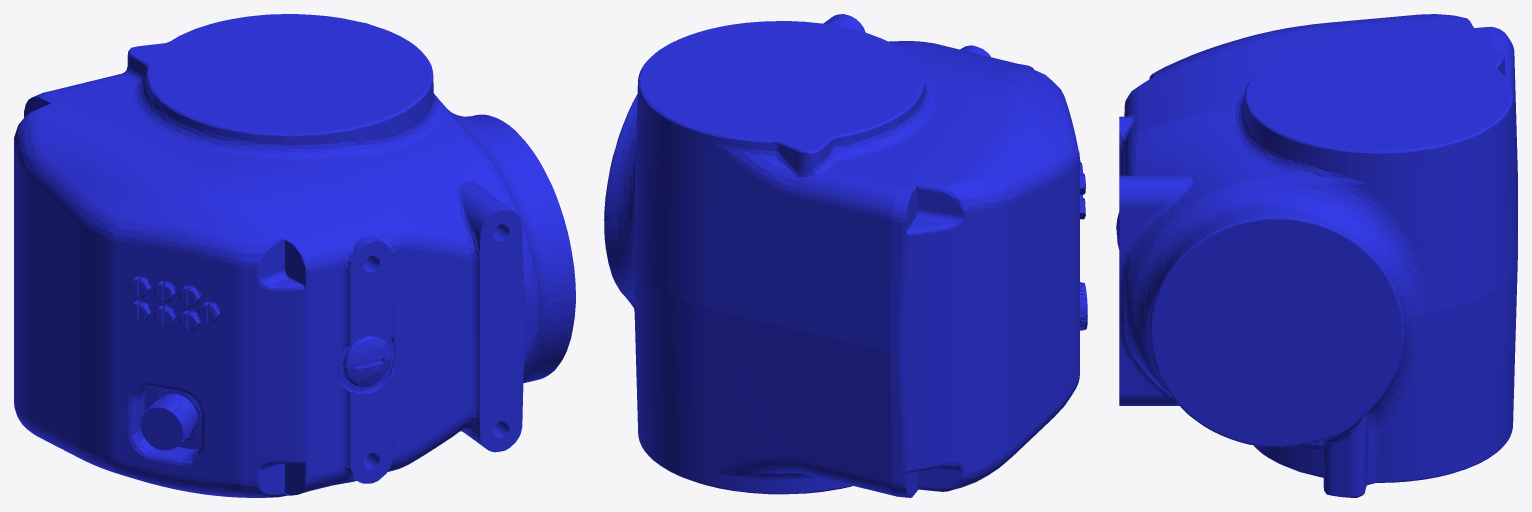
The picture shows the model from 3 angles, left to right: view 1: azimuth 30°, elevation 25°; view 2: azimuth 150°, elevation 25°; view 3: azimuth 270°, elevation 25°; orthographic projection. The views are drawn at different scales.
Visible parts, largest first — view 1: /Link3/Link3-mesh/0; view 2: /Link3/Link3-mesh/0; view 3: /Link3/Link3-mesh/0.
Boxes of the visible parts, x1,y1,x2,y2 form: /Link3/Link3-mesh/0: (14, 14, 575, 497); /Link3/Link3-mesh/0: (604, 14, 1087, 497); /Link3/Link3-mesh/0: (1116, 14, 1517, 497).
Size of the model in its own units: 0.175 by 0.144 by 0.1579.
